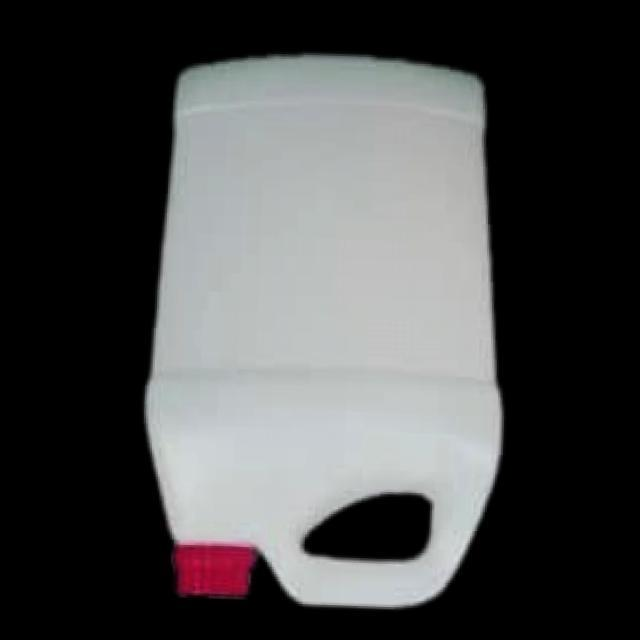HDPE Plastic: (134, 48, 510, 612)
